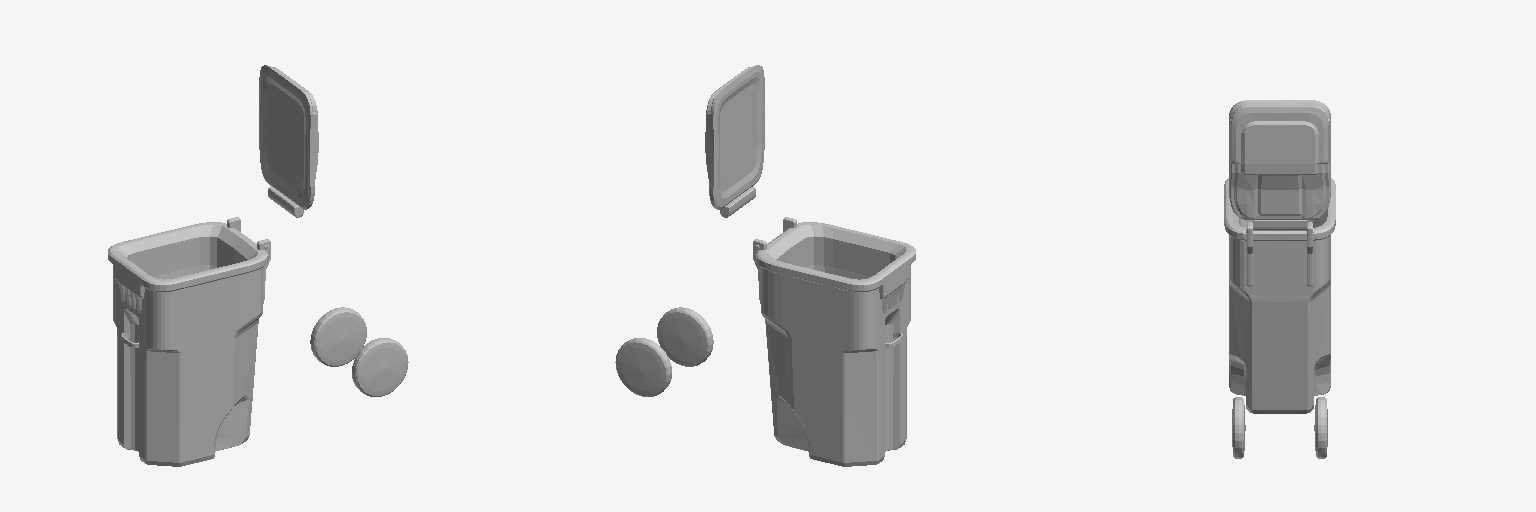
3 renders of one model, left to right at view 1: azimuth 30°, elevation 25°; view 2: azimuth 150°, elevation 25°; view 3: azimuth 270°, elevation 25°, orthographic.
Parts seen in each view (by area): view 1: bin, bin_top; view 2: bin, bin_top; view 3: bin, bin_top.
Boxes of the visible parts, box(x1,y1,x2,y2) form: bin: box(108, 217, 408, 466); bin_top: box(259, 65, 318, 217); bin: box(615, 217, 915, 466); bin_top: box(705, 65, 764, 217); bin: box(1224, 178, 1335, 458); bin_top: box(1229, 100, 1330, 230).
Size of the model in its own units: 1.48 by 1.85 by 0.5486.